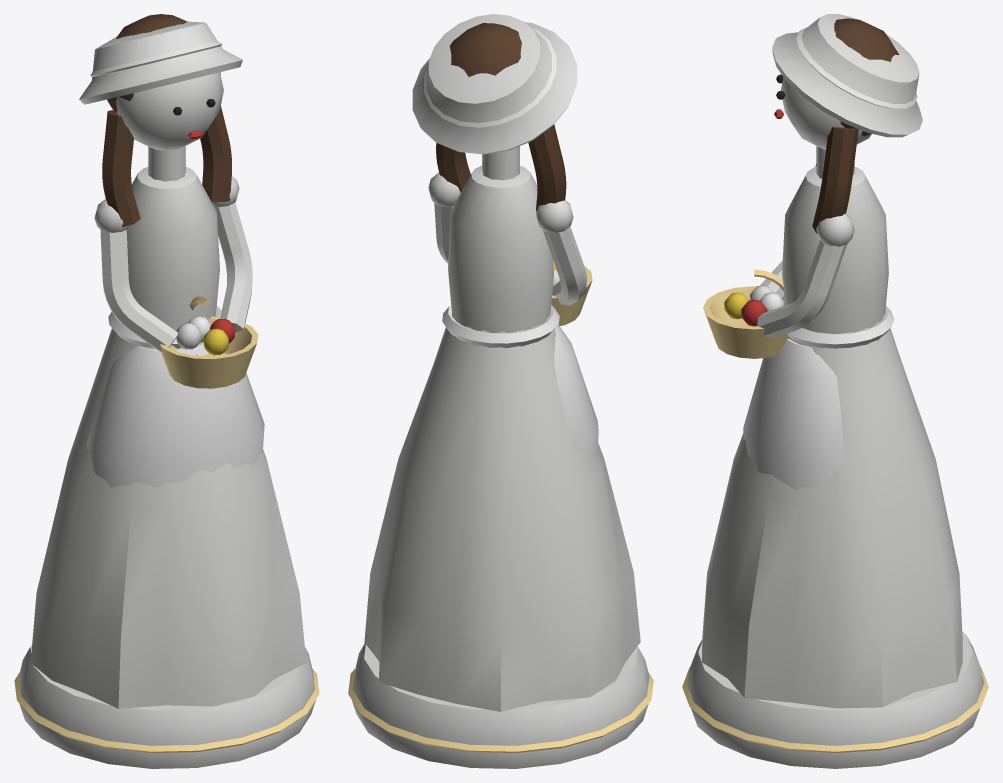
Rendered from SM_Loot_Figurine.fbx.
3 views of the same model, side by side, from view 1: azimuth 30°, elevation 25°; view 2: azimuth 150°, elevation 25°; view 3: azimuth 270°, elevation 25° (orthographic).
Visible parts, largest first — view 1: SM_Loot_Figurine_1; view 2: SM_Loot_Figurine_1; view 3: SM_Loot_Figurine_1.
Boxes of the visible parts, bbox=[...] form: SM_Loot_Figurine_1: bbox=[14, 14, 319, 768]; SM_Loot_Figurine_1: bbox=[348, 14, 653, 768]; SM_Loot_Figurine_1: bbox=[682, 14, 988, 768].
Size of the model in its own units: 8.04 by 19.79 by 8.04.
